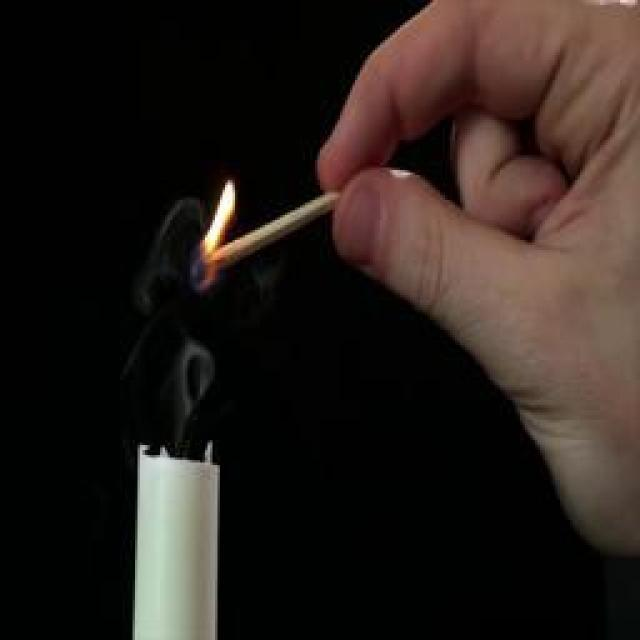Fire: (200, 181, 238, 251)
